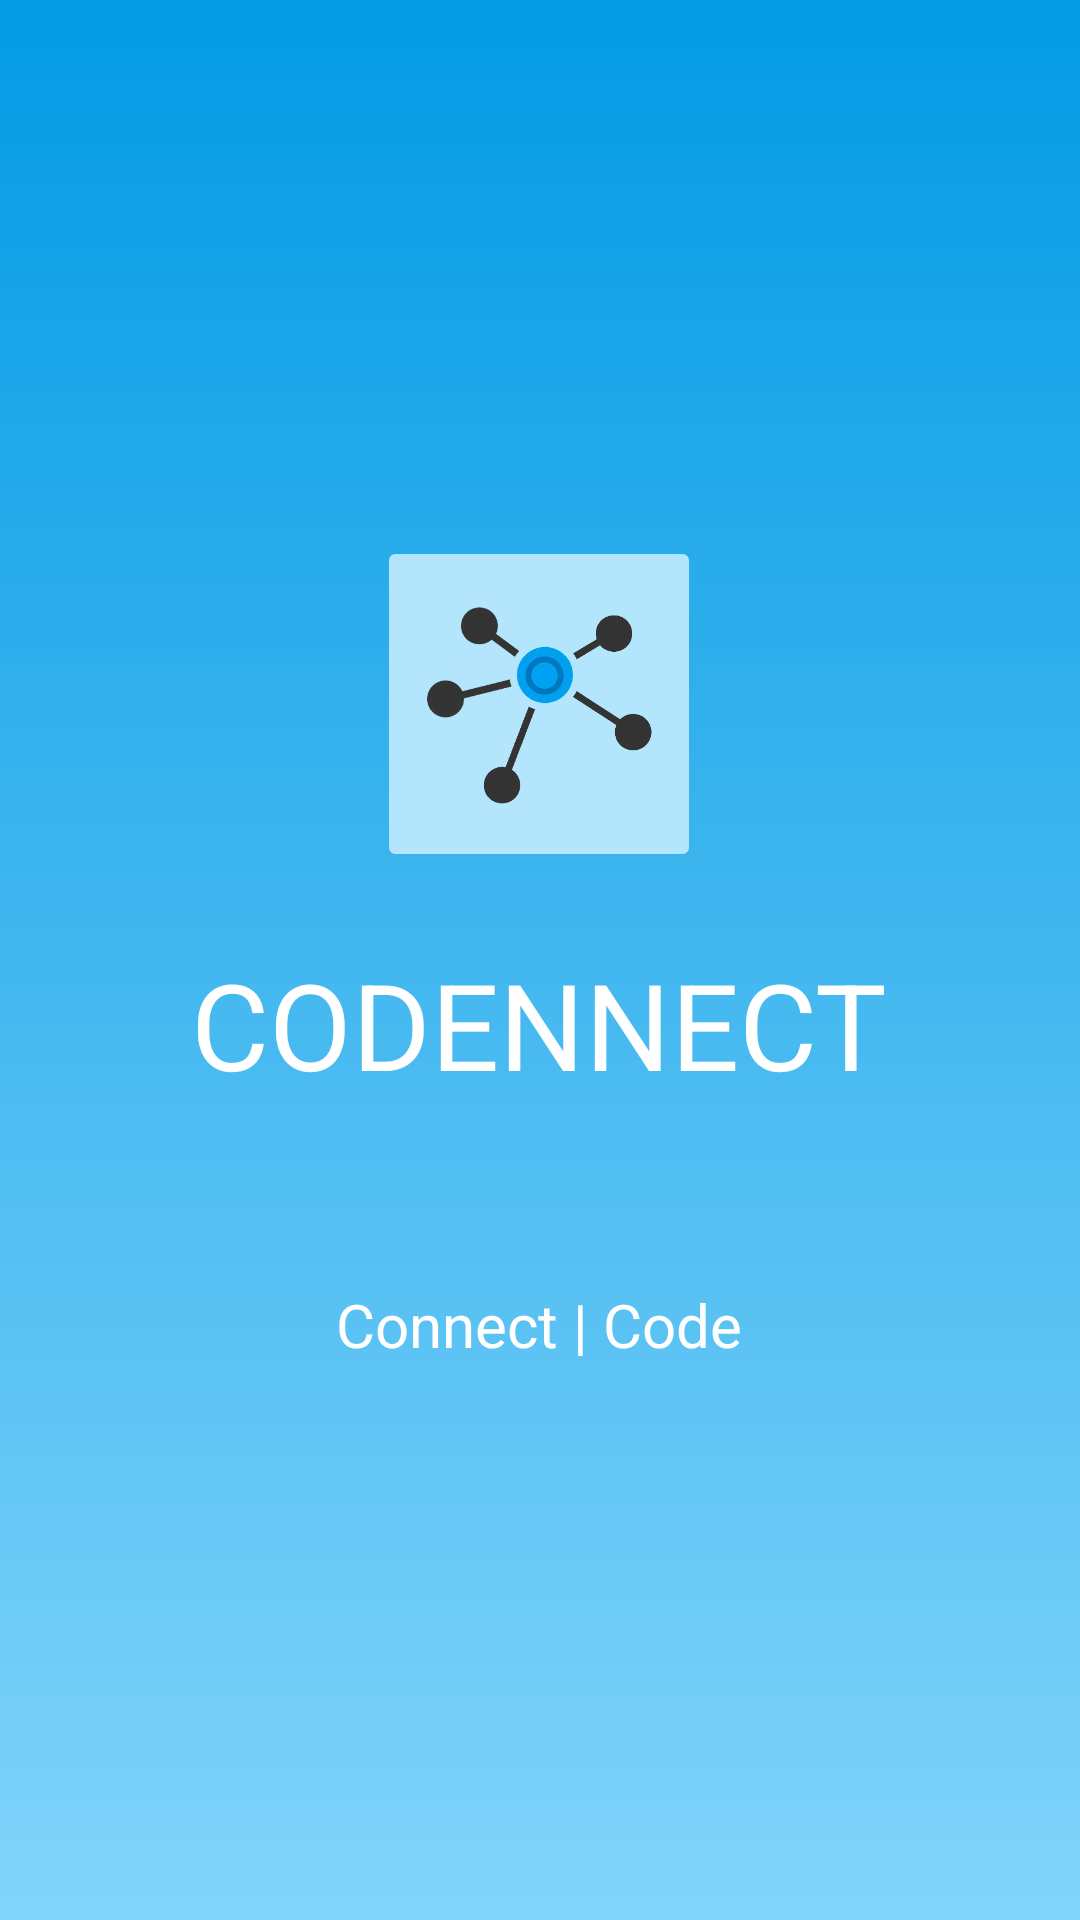

Screen size 1080px×1920px. Icon name, then its center in pixels as (x=x, y=y):
connect: (x=539, y=704)
